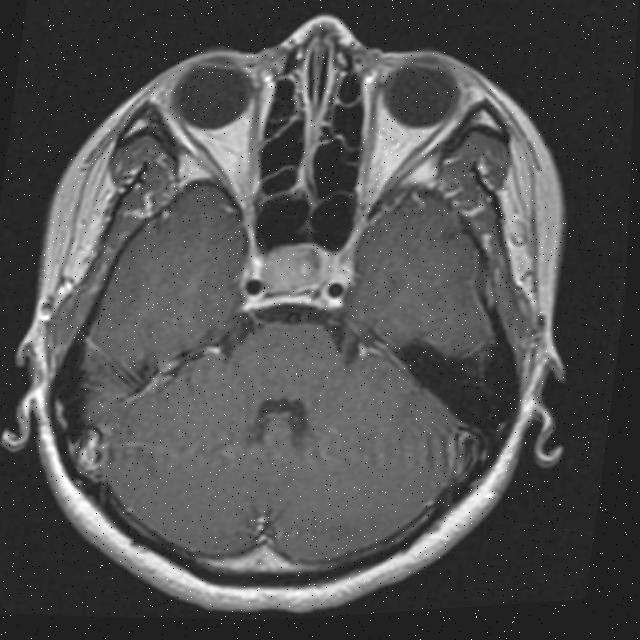Pituitary: (257, 237, 336, 300)
